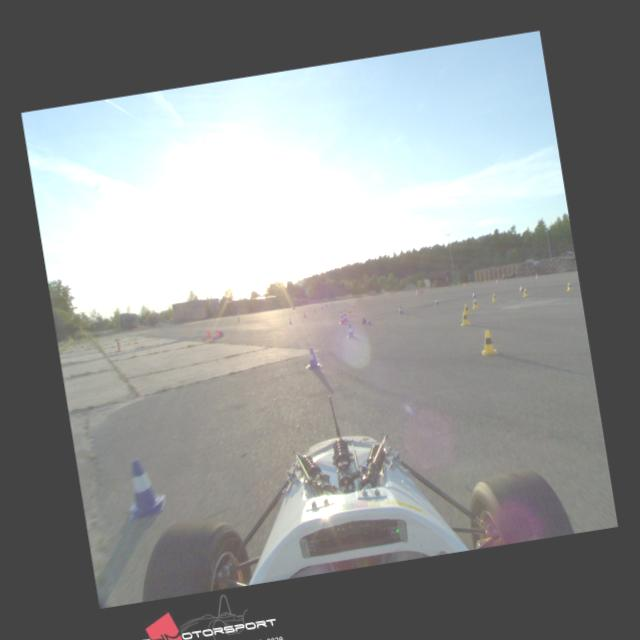blue_cone: (121, 456, 168, 520), (303, 346, 323, 371), (345, 324, 356, 339), (361, 316, 372, 326), (398, 306, 404, 314), (434, 298, 440, 306)
large_orange_cone: (338, 310, 347, 324), (342, 308, 350, 322)
yellow_cone: (478, 328, 498, 356), (458, 310, 472, 327), (472, 298, 478, 309), (464, 304, 470, 315), (522, 288, 528, 297), (492, 293, 498, 302), (566, 282, 572, 291)
